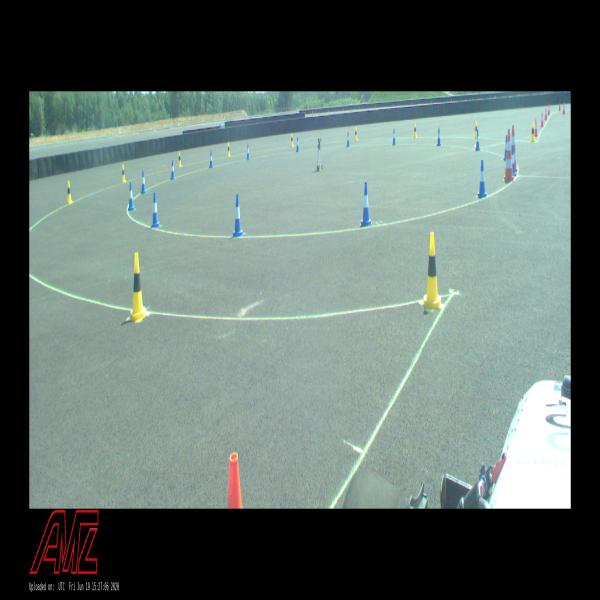blue_cone: (232, 194, 245, 238), (360, 182, 372, 227), (477, 160, 487, 198), (151, 192, 161, 228), (128, 183, 136, 210), (140, 170, 146, 194), (512, 145, 516, 177), (504, 136, 508, 160), (171, 160, 176, 179), (476, 130, 480, 150), (209, 151, 213, 168), (437, 128, 441, 145), (392, 128, 396, 145), (246, 144, 250, 159), (296, 137, 299, 152), (347, 132, 350, 146)
large_orange_cone: (228, 452, 242, 508), (503, 130, 514, 180), (511, 125, 517, 172)
orange_cone: (534, 119, 538, 136), (540, 113, 544, 127), (545, 108, 547, 120), (563, 103, 565, 114), (548, 104, 550, 115)
yellow_cone: (421, 232, 443, 311), (128, 252, 147, 322), (66, 181, 73, 204), (121, 164, 126, 183), (531, 122, 535, 141), (414, 123, 418, 138), (178, 152, 182, 167), (354, 127, 358, 140), (474, 121, 477, 138), (291, 134, 294, 146), (228, 143, 230, 156)
